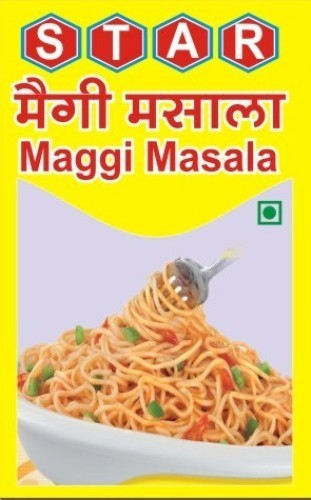VEG: (257, 199, 283, 226)
